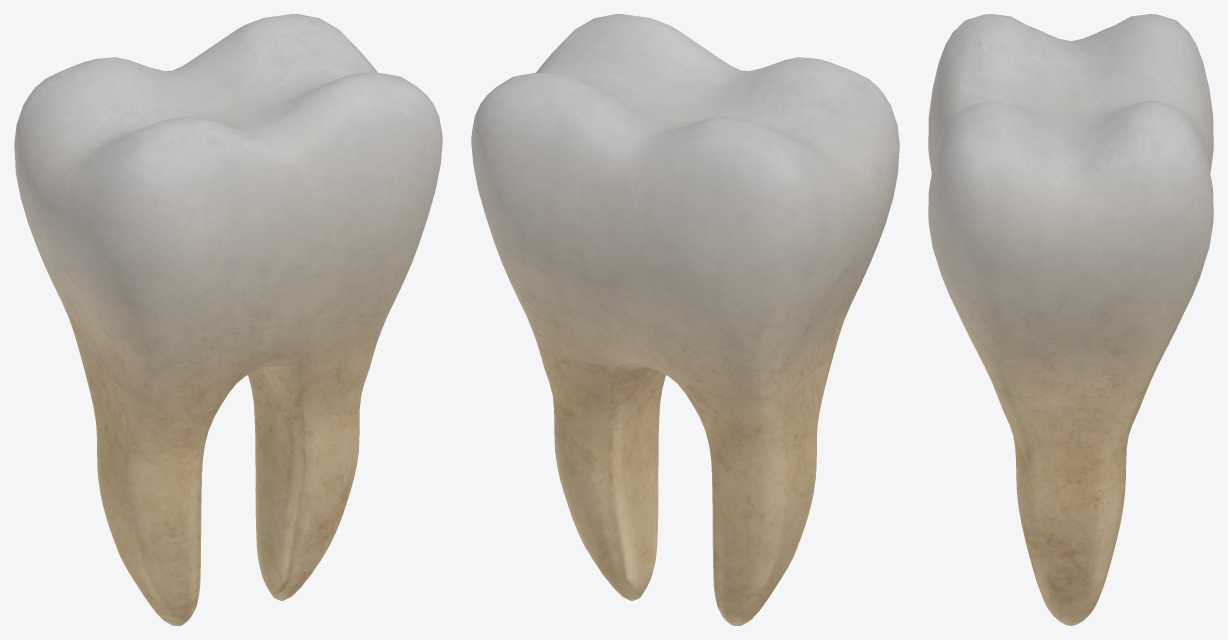
Rendered from tooth.glb.
3 renders of one model, left to right at view 1: azimuth 30°, elevation 25°; view 2: azimuth 150°, elevation 25°; view 3: azimuth 270°, elevation 25°, orthographic.
Visible parts, largest first — view 1: Tooth_A; view 2: Tooth_A; view 3: Tooth_A.
Boxes of the visible parts, box(x1,y1,x2,y2) form: Tooth_A: box(14, 14, 442, 625); Tooth_A: box(471, 14, 899, 625); Tooth_A: box(928, 14, 1213, 625).
Bounding box in the file's own units: 1.46 × 2.13 × 1.03.
Materials: 1 (1 with a texture image).
